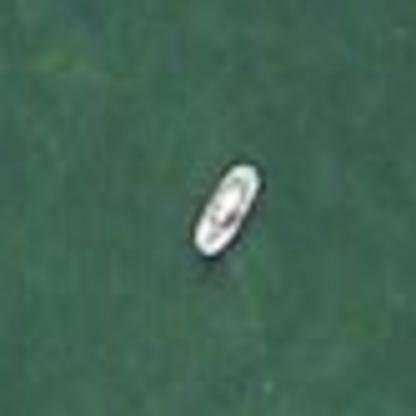ship: (181, 151, 266, 265)
